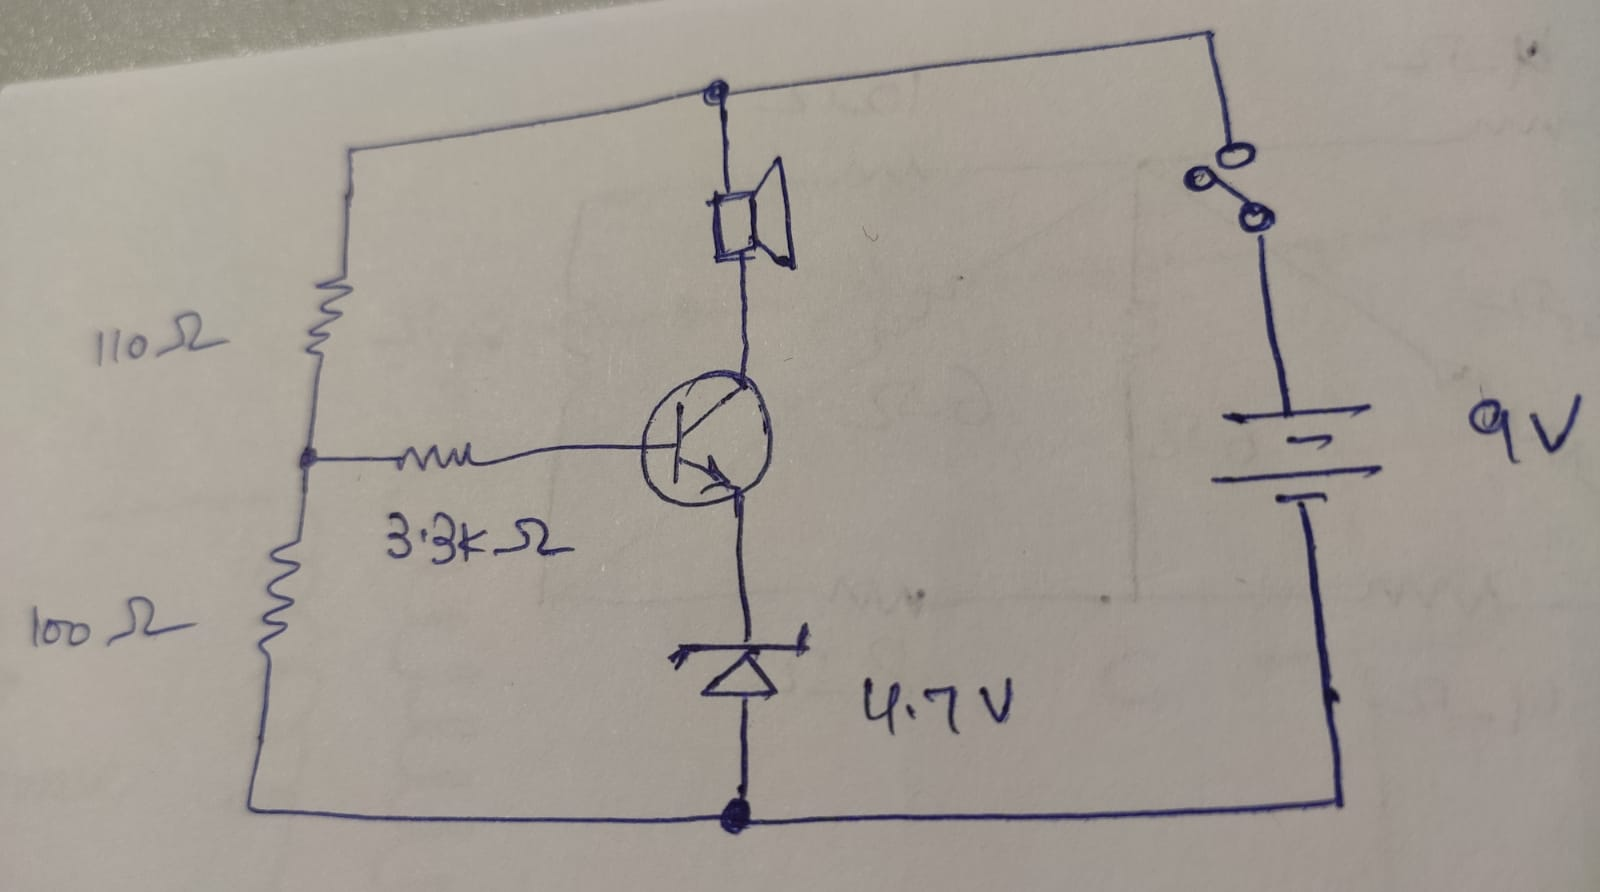diode: (668, 623, 812, 702)
junction: (711, 787, 758, 832), (292, 434, 335, 482), (696, 73, 735, 110), (1321, 787, 1357, 822), (1193, 23, 1223, 49), (238, 796, 262, 819), (339, 143, 362, 163)
resistor: (257, 536, 302, 658), (302, 271, 353, 357), (391, 438, 481, 473)
speaker: (706, 155, 799, 271)
switch: (1179, 136, 1282, 237)
text: (380, 508, 579, 567), (23, 594, 201, 650), (859, 670, 1010, 734), (85, 308, 242, 366), (1472, 393, 1580, 458)
transistor: (628, 358, 786, 513)
voltage.dc: (1210, 403, 1386, 509)
